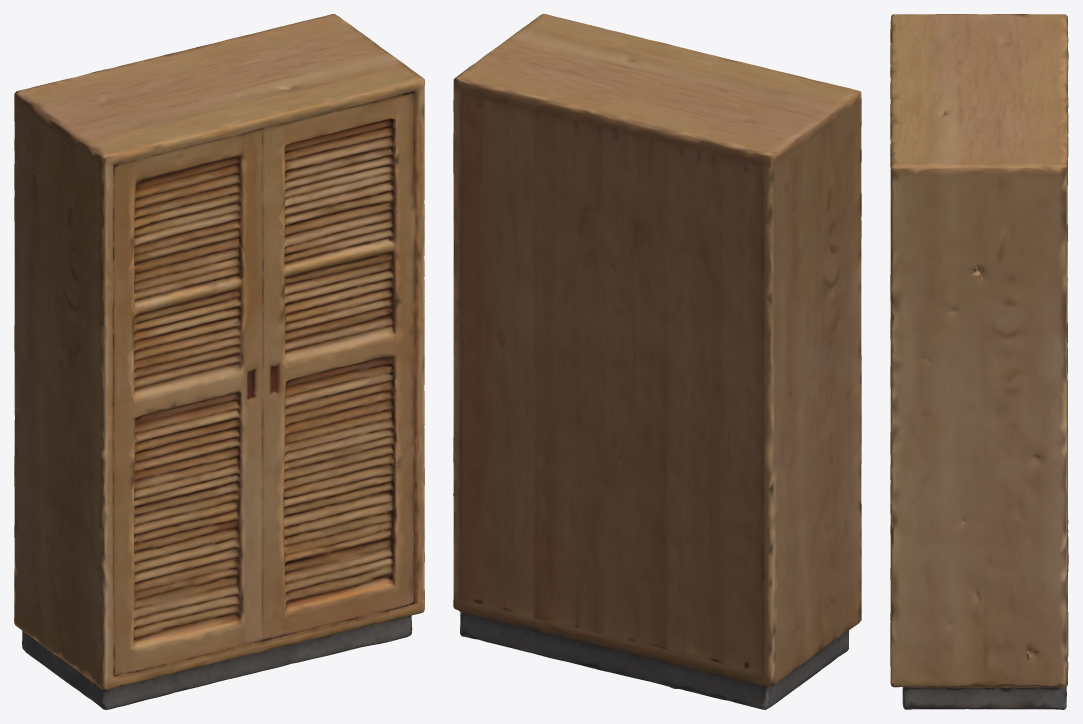
3 views of the same model, side by side, from view 1: azimuth 30°, elevation 25°; view 2: azimuth 150°, elevation 25°; view 3: azimuth 270°, elevation 25° (orthographic). The views are drawn at different scales.
Parts seen in each view (by area): view 1: Mesh_0; view 2: Mesh_0; view 3: Mesh_0.
Part boxes in pixels (x1,y1,x2,y2): Mesh_0: [14, 14, 424, 709]; Mesh_0: [453, 14, 861, 709]; Mesh_0: [890, 14, 1068, 709].
Bounding box in the file's own units: 0.5778 × 0.96 × 0.2827.
Materials: 1 (1 with a texture image).
